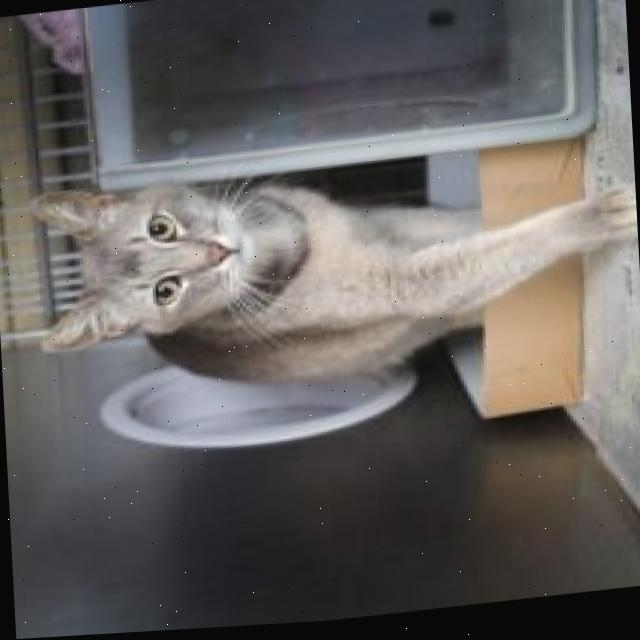Abyssinian: (22, 128, 640, 419)
